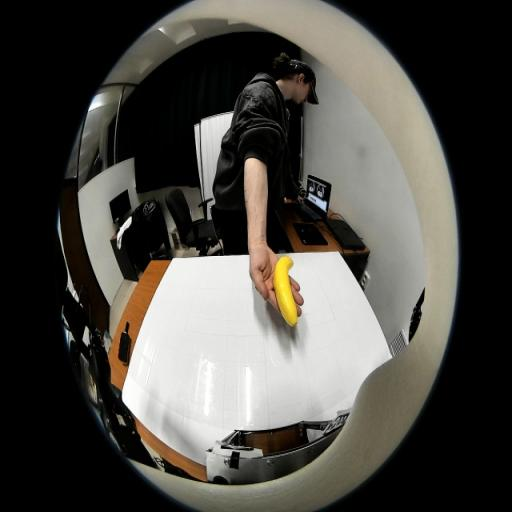Banana: (274, 256, 298, 327)
